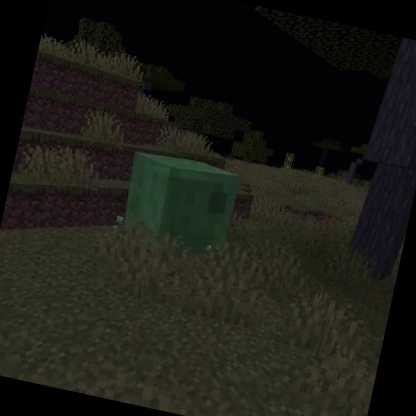slime: (109, 142, 249, 273)
